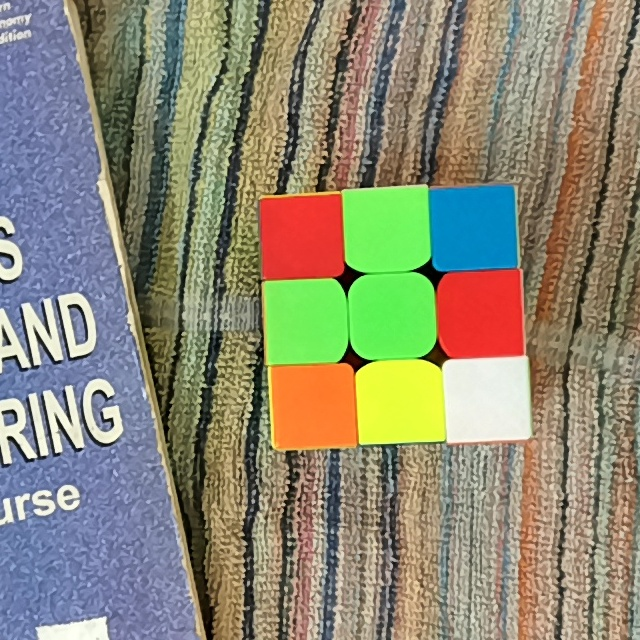tile: (449, 276, 521, 351), (438, 192, 513, 263), (265, 201, 338, 272), (351, 193, 424, 263), (281, 369, 352, 440), (366, 367, 438, 437), (454, 363, 524, 435), (358, 282, 429, 352), (272, 285, 340, 351)
